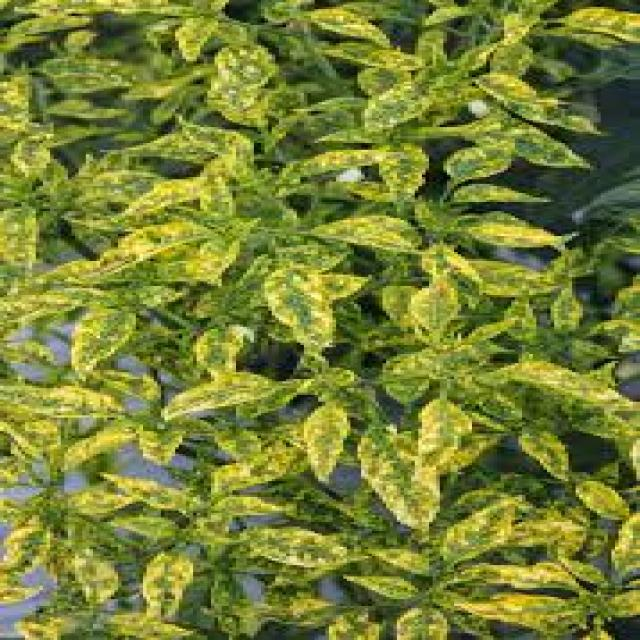virus_kuning: (255, 264, 355, 346), (156, 376, 294, 428), (240, 518, 362, 576), (416, 402, 478, 490), (296, 394, 350, 488)
